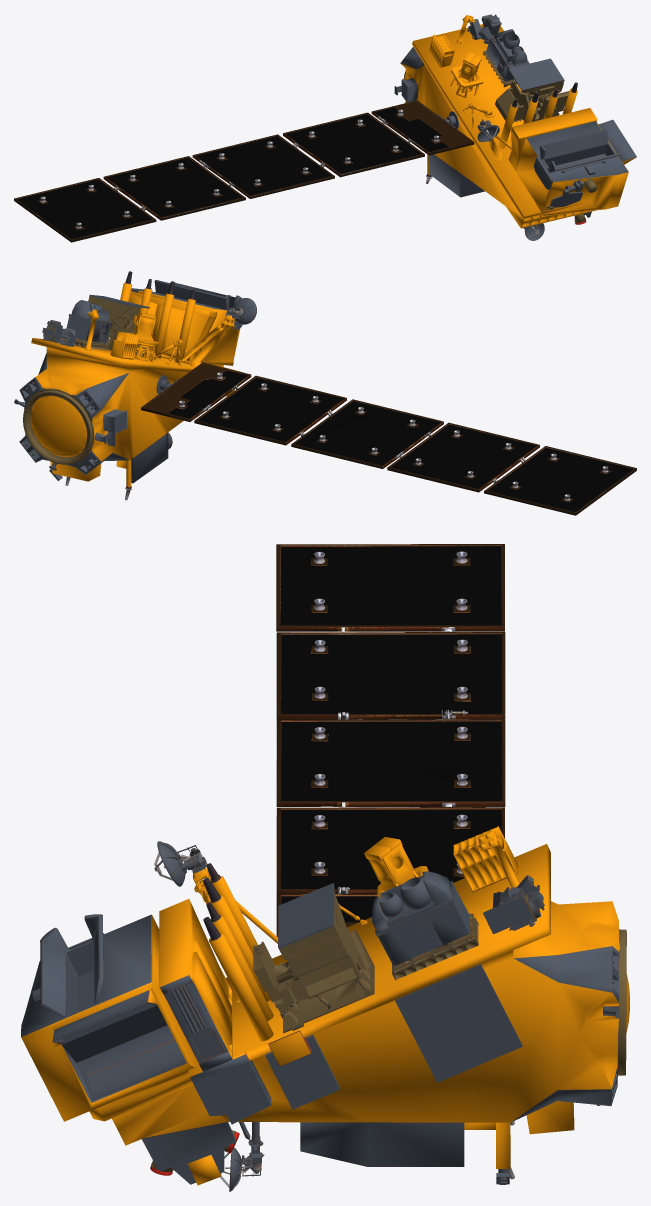
File: noaa21.gltf
3 views of the same model, one above another, from view 1: azimuth 30°, elevation 25°; view 2: azimuth 150°, elevation 25°; view 3: azimuth 270°, elevation 25° (orthographic). The views are drawn at different scales.
Parts seen in each view (by area): view 1: Main_Body.001_Cylinder.004, Panels_Lo_Res.002_Cylinder.001; view 2: Main_Body.001_Cylinder.004, Panels_Lo_Res.002_Cylinder.001; view 3: Main_Body.001_Cylinder.004, Panels_Lo_Res.002_Cylinder.001.
Boxes of the visible parts, left/top/right/bottom form: Main_Body.001_Cylinder.004: left=394, top=14, right=636, bottom=240; Panels_Lo_Res.002_Cylinder.001: left=14, top=100, right=474, bottom=242; Main_Body.001_Cylinder.004: left=14, top=271, right=256, bottom=500; Panels_Lo_Res.002_Cylinder.001: left=141, top=362, right=636, bottom=515; Main_Body.001_Cylinder.004: left=21, top=826, right=629, bottom=1191; Panels_Lo_Res.002_Cylinder.001: left=276, top=544, right=505, bottom=936.
Size of the model in its own units: 10.64 by 3.56 by 5.5.
Materials: 7 (2 with a texture image).
